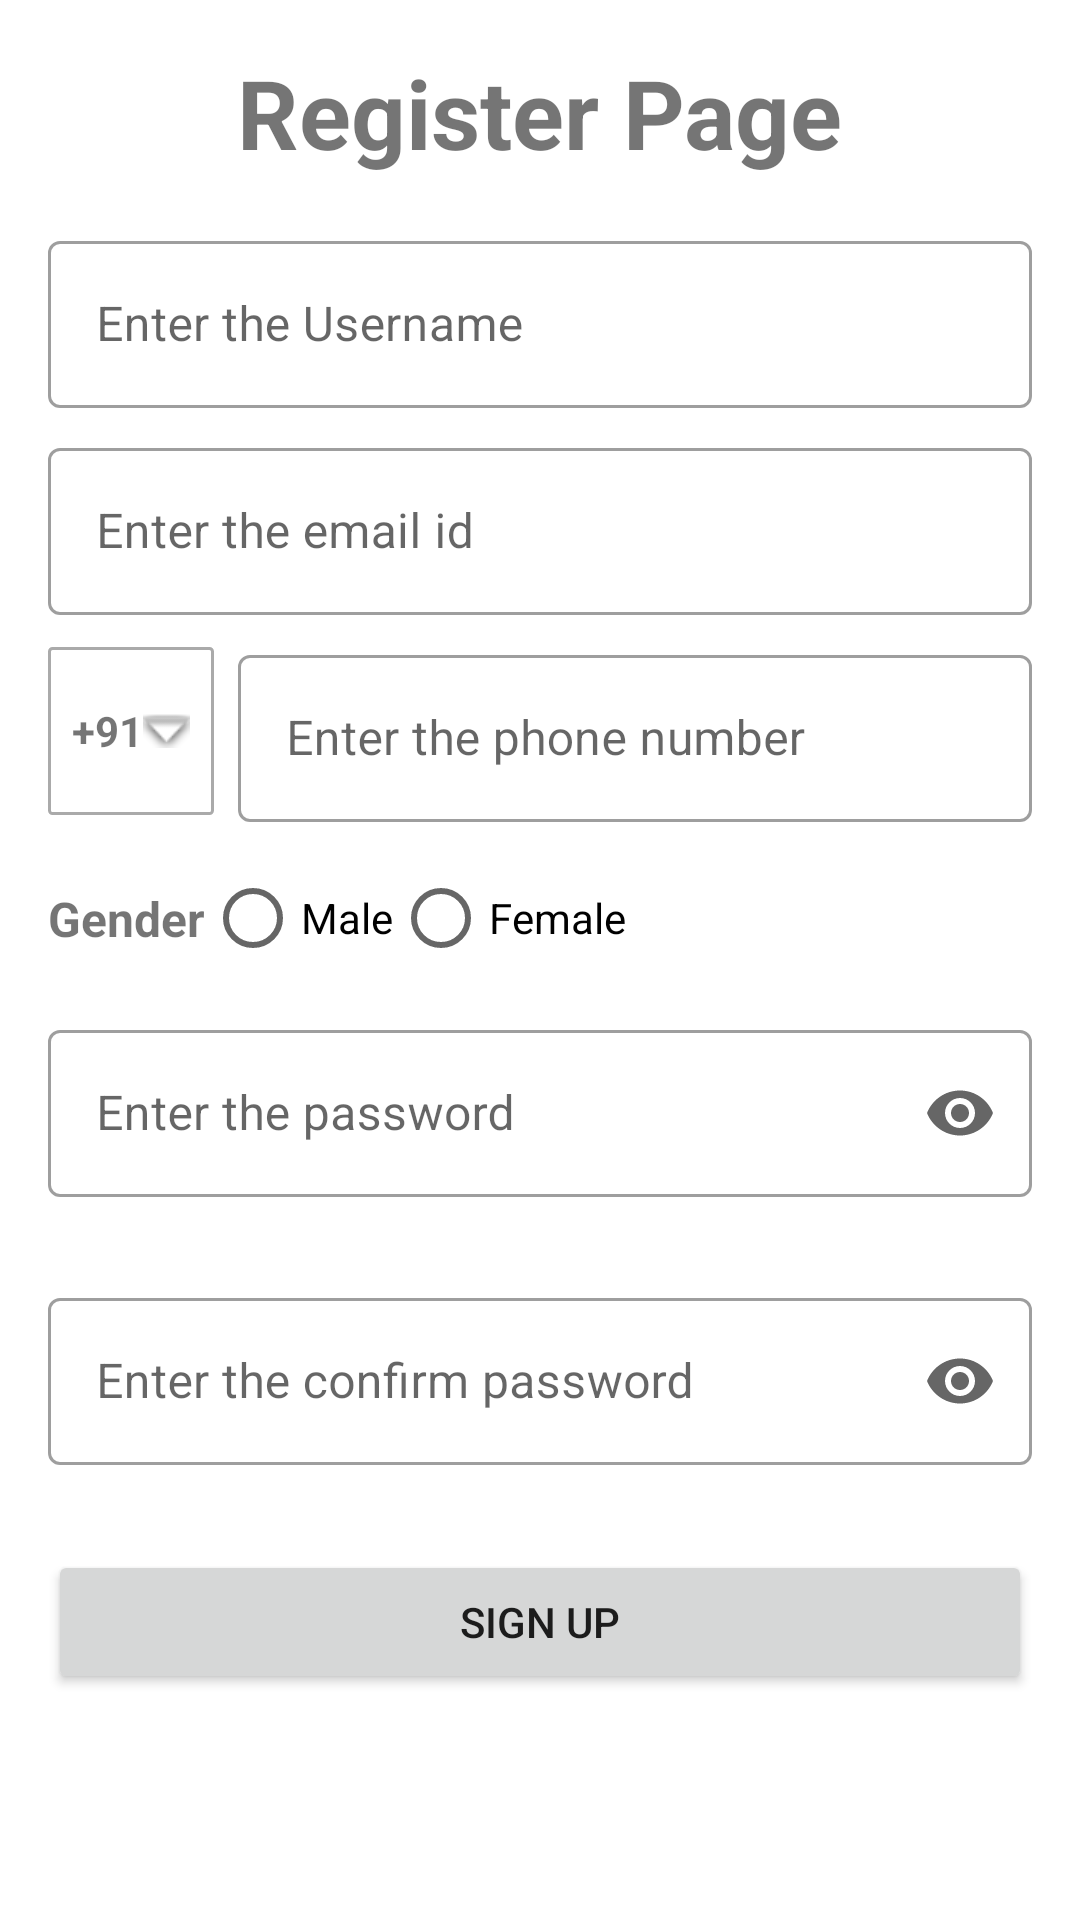

Point at icon controls on the screen. Image size 1080×1920, points as [x,y].
arrow down float: [166,731]
